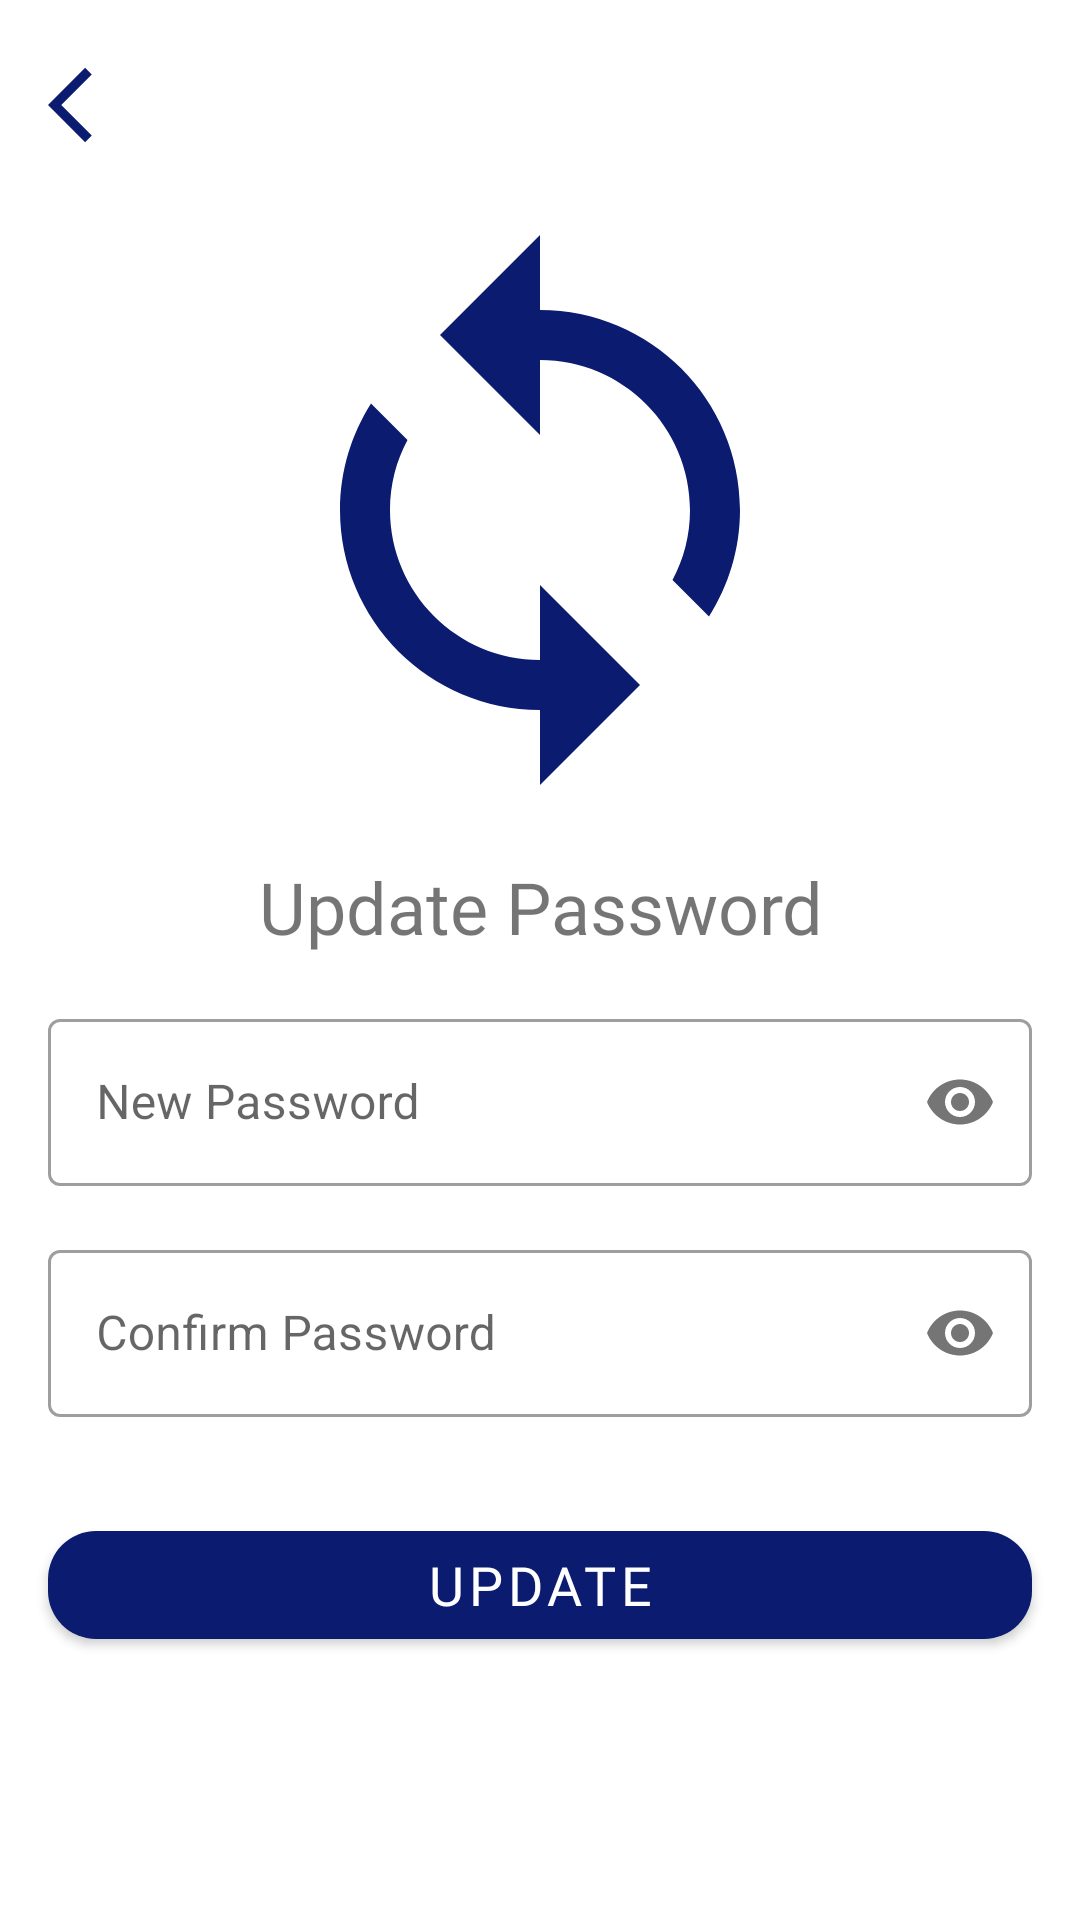

Screen size 1080w x 1920h. Icon name, then its center in pixels as (x=x, y=y):
arrow back: (x=70, y=105)
